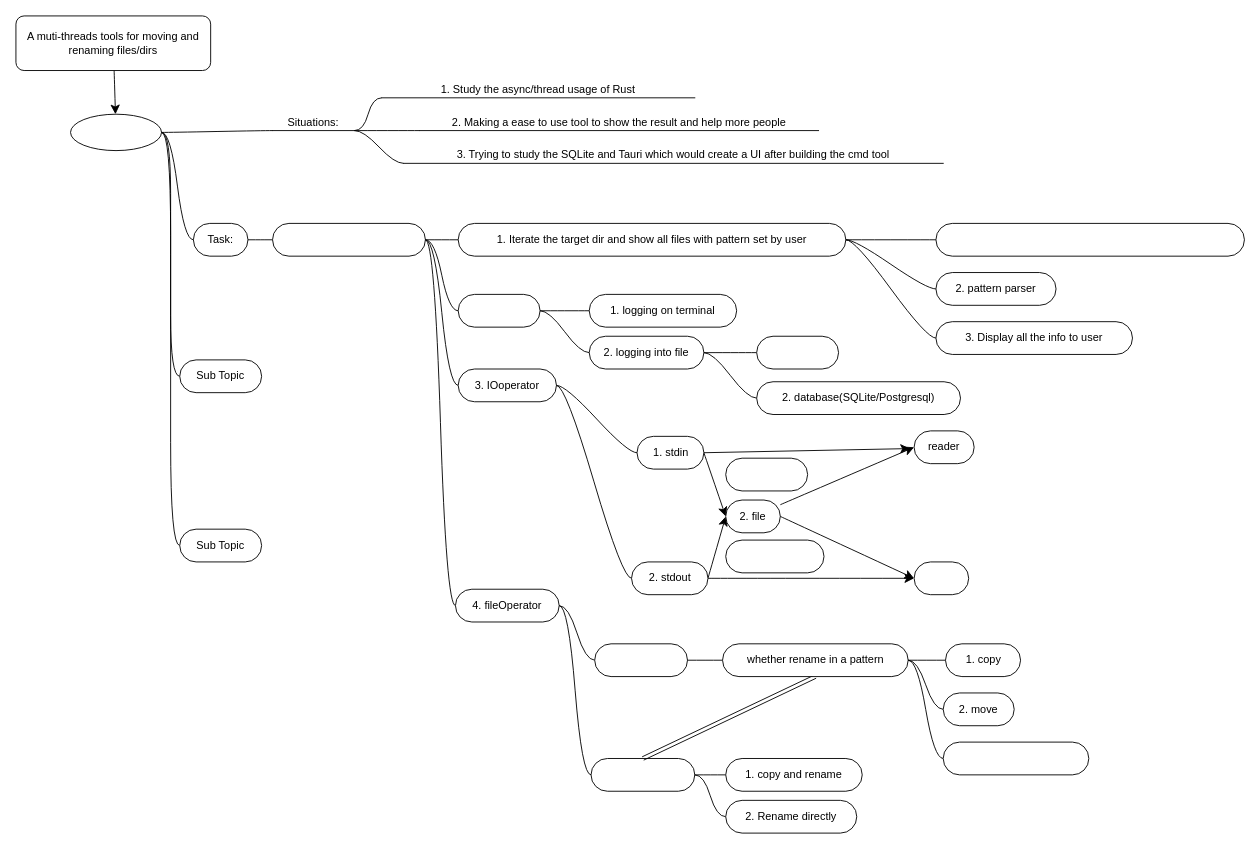
Some shapes in this 1260 by 849 pixel diagram are drawn without their labels. The box of each missing label's shape, as (x1, y1, x2, y2) in pixels:
1. Create the cmd tool: (272, 222, 425, 256)
1. file mover: (594, 643, 688, 677)
1. Iterate target path and save all dirs/files in order: (935, 222, 1244, 256)
1. terminal: (725, 457, 808, 491)
1. txt file?: (756, 335, 839, 369)
2. file renamer: (590, 758, 695, 791)
2. Logger: (457, 293, 540, 327)
3. copy and delete: (942, 741, 1089, 775)
3. Stream(X): (725, 539, 824, 573)
filesman: (70, 113, 162, 151)
writer: (913, 561, 969, 595)
